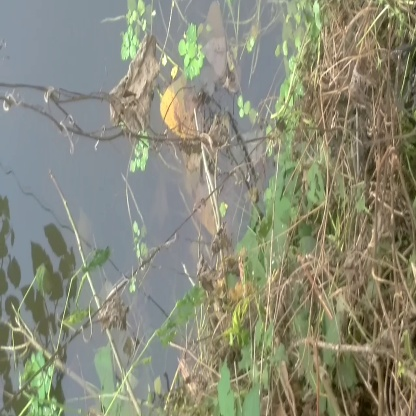leaf: (66, 38, 161, 132)
